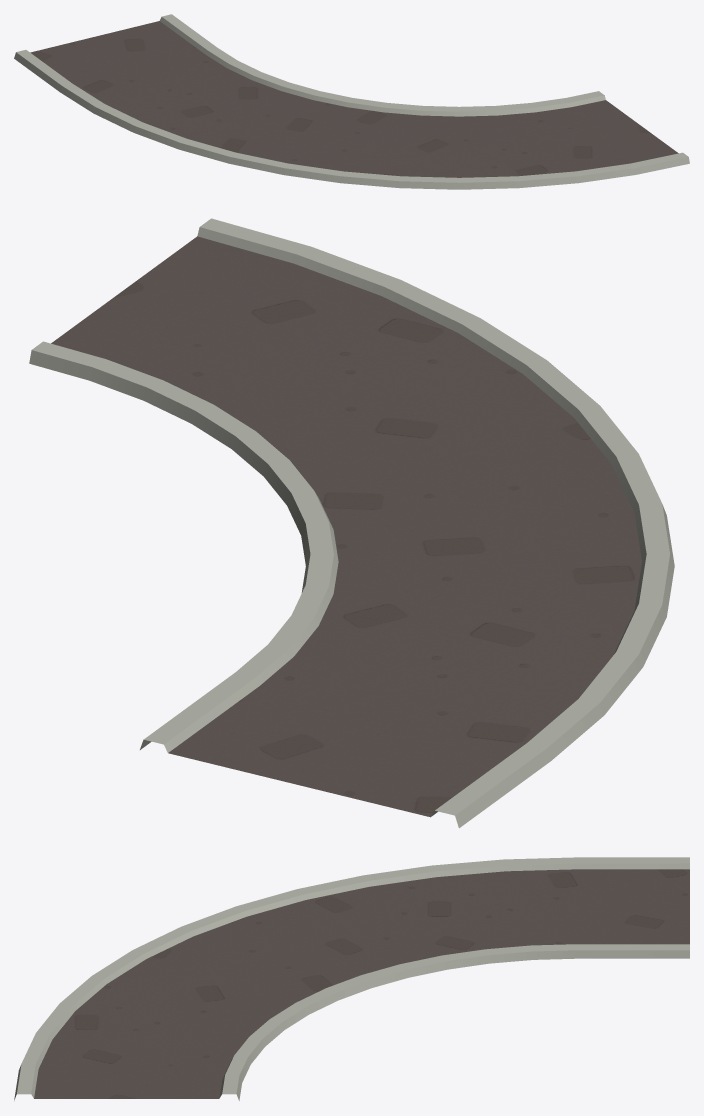
File: ParkRoad_2_C.glb
3 renders of one model, top to bottom at view 1: azimuth 30°, elevation 25°; view 2: azimuth 150°, elevation 25°; view 3: azimuth 270°, elevation 25°, orthographic. The views are drawn at different scales.
Parts seen in each view (by area): view 1: ParkRoad_2_C; view 2: ParkRoad_2_C; view 3: ParkRoad_2_C.
Boxes of the visible parts, x1,y1,x2,y2 form: ParkRoad_2_C: [14, 14, 689, 189]; ParkRoad_2_C: [29, 218, 674, 828]; ParkRoad_2_C: [14, 857, 689, 1100].
Size of the model in its own units: 5 by 0.0716 by 6.
2 materials, 2 textured.
